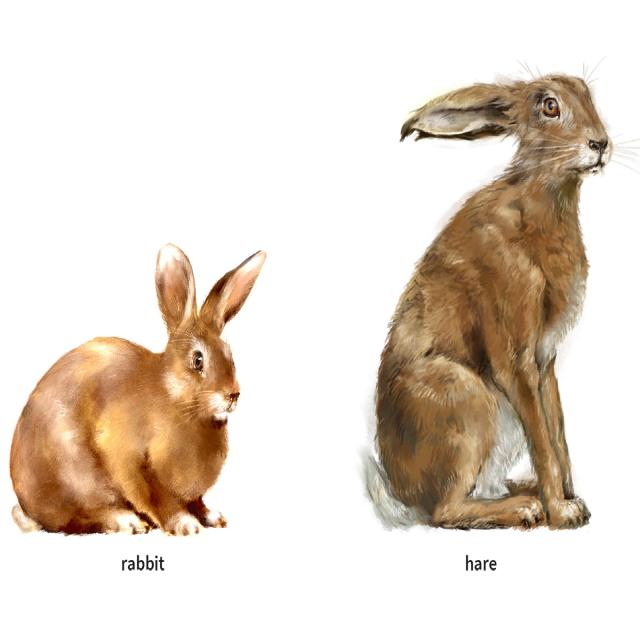Hare: (360, 66, 616, 529)
